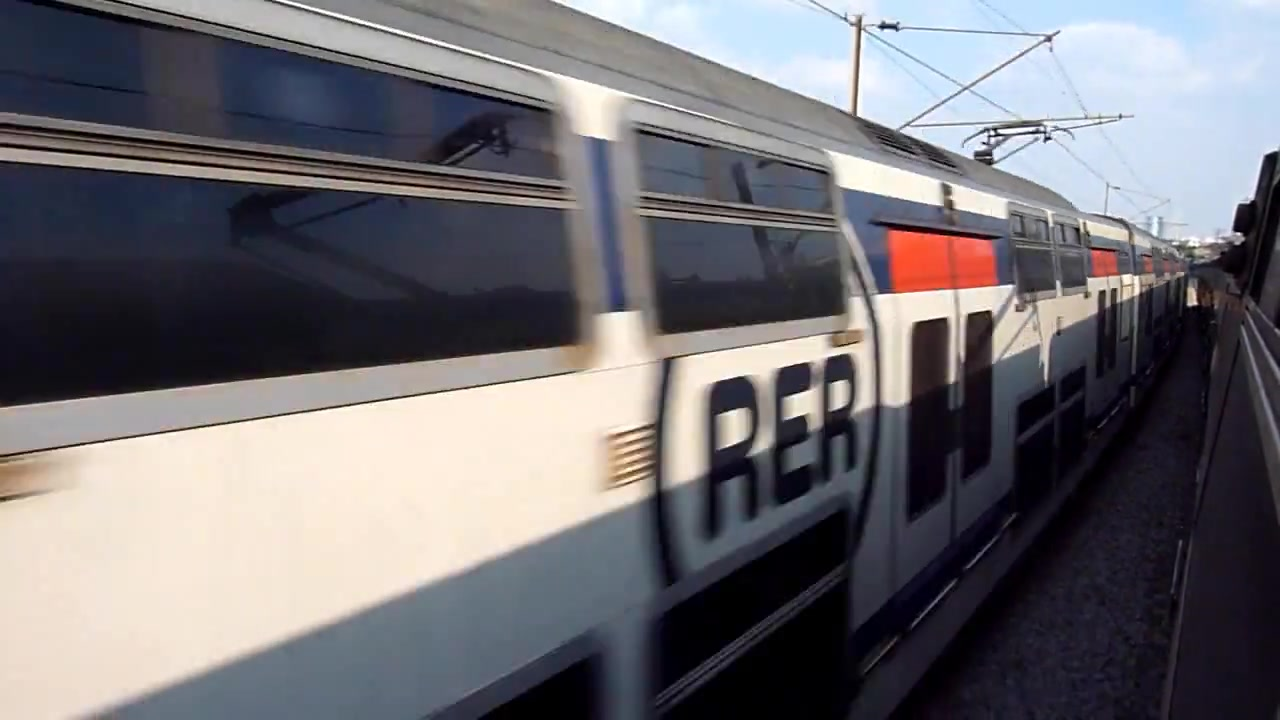train: (1, 1, 1193, 720)
